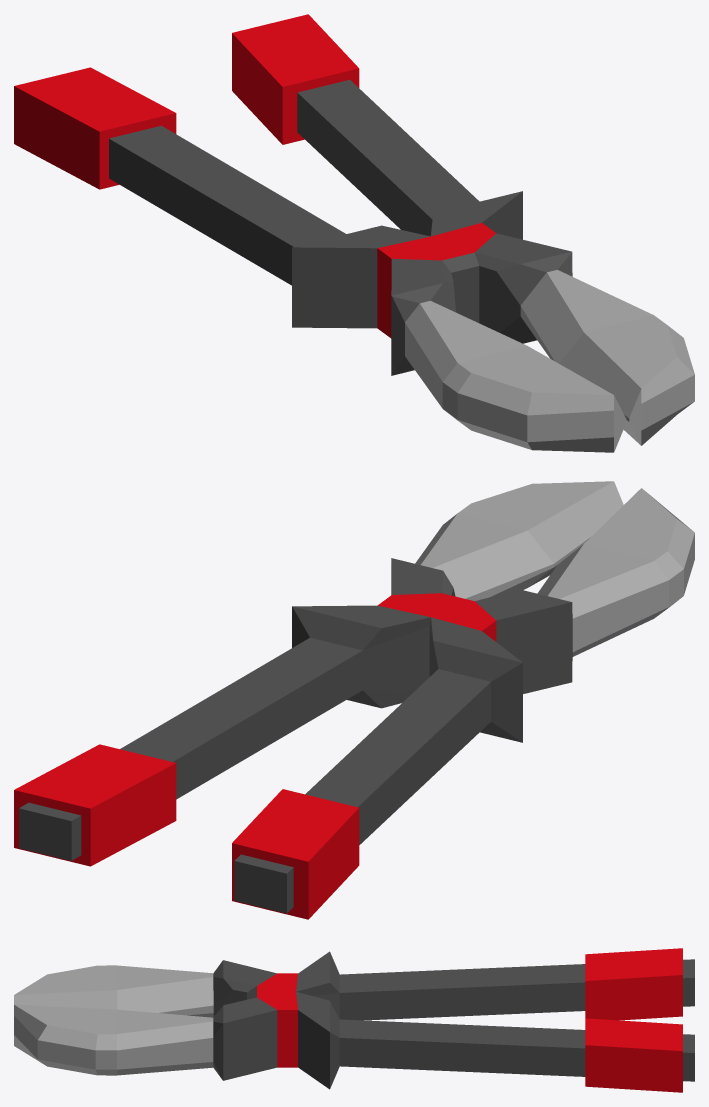
The model's file is bolt_cutters.glb.
3 views of the same model, one above another, from view 1: azimuth 30°, elevation 25°; view 2: azimuth 150°, elevation 25°; view 3: azimuth 270°, elevation 25° (orthographic). The views are drawn at different scales.
Visible parts, largest first — view 1: Cube; view 2: Cube; view 3: Cube.
Part boxes in pixels (x1=…): Cube: x1=14, y1=14, x2=694, y2=452; Cube: x1=14, y1=481, x2=694, y2=919; Cube: x1=14, y1=948, x2=694, y2=1092.
Bounding box in the file's own units: 3.01 × 0.7842 × 8.41.
